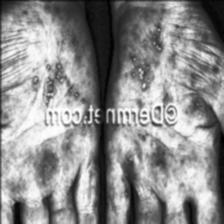Non-Cancerous Skin Condition: (152, 25, 162, 51), (54, 68, 64, 86), (140, 77, 149, 89), (138, 66, 146, 77), (45, 74, 52, 85), (46, 90, 54, 96), (34, 72, 38, 84)
